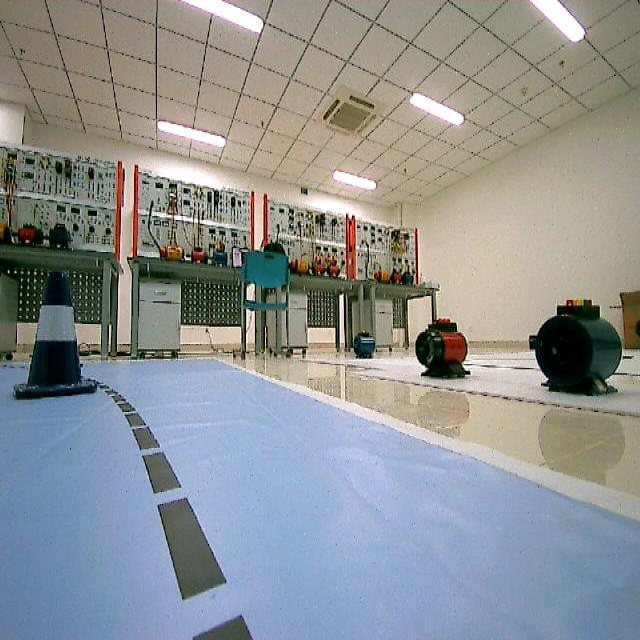obstacle: (3, 270, 105, 406)
